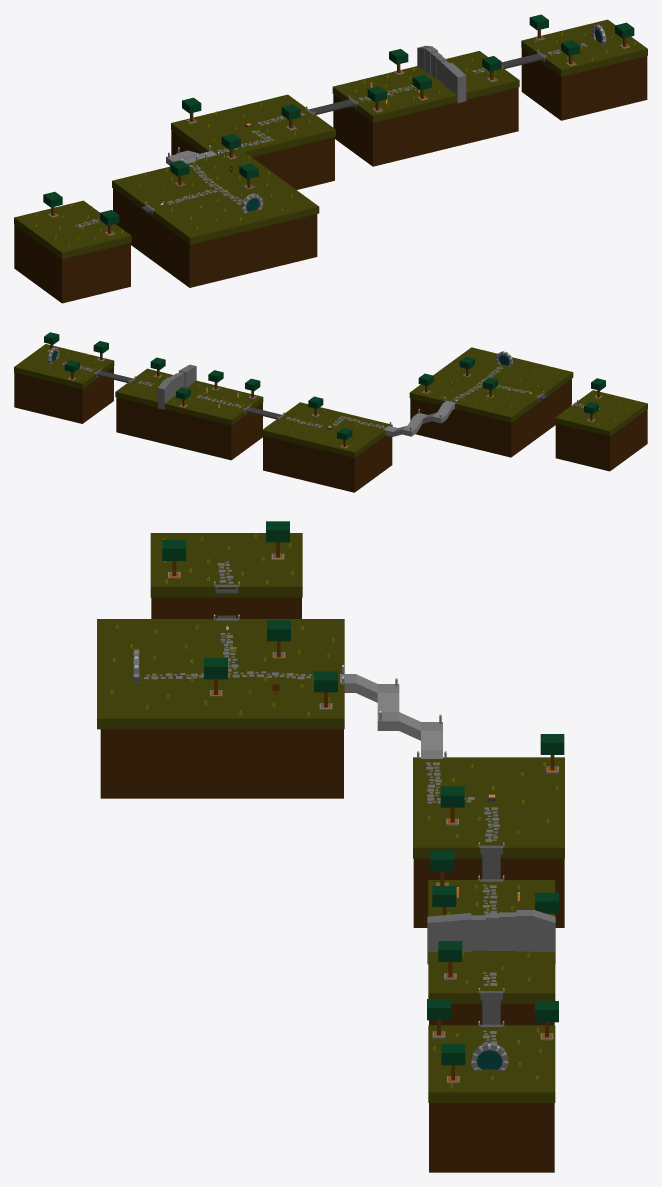
The model's file is Level14.fbx.
The picture shows the model from 3 angles, top to bottom: view 1: azimuth 30°, elevation 25°; view 2: azimuth 150°, elevation 25°; view 3: azimuth 270°, elevation 25°; orthographic projection. The views are drawn at different scales.
Visible parts, largest first — view 1: Cube90019001900190019002, Cube90029001900190019002, Cube9002900190019001900390019003, Cube90019001900190019003, Cube9002900190019001900390019002, Cube9001900190019001900390019003, Cube9002900190019001900390019001, Cube9001900190019001900390019001, Cube9001900190019001900390019004, Cube90029001900190019003, reci; view 2: Cube90019001900190019002, Cube9002900190019001900390019003, Cube90029001900190019002, Cube90029001900190019003, Cube90019001900190019003, Cube9001900190019001900390019003, Cube9002900190019001900390019002, Cube9002900190019001900390019001, Cube9001900190019001900390019001, Cube9001900190019001900390019004, reci; view 3: Cube90019001900190019002, Cube90029001900190019002, Cube90019001900190019003, Cube9001900190019001900390019003, Cube9002900190019001900390019002, Cube9001900190019001900390019001, Cube9001900190019001900390019004, Cube90029001900190019003, Cube9002900190019001900390019001, reci, ccccc, Cube9002900190019001900390019003.
Part boxes in pixels (x1=…): Cube90019001900190019002: x1=112, y1=149, x2=319, y2=244; Cube90029001900190019002: x1=113, y1=188, x2=317, y2=287; Cube9002900190019001900390019003: x1=333, y1=87, x2=518, y2=166; Cube90019001900190019003: x1=171, y1=94, x2=335, y2=156; Cube9002900190019001900390019002: x1=521, y1=48, x2=647, y2=120; Cube9001900190019001900390019003: x1=332, y1=51, x2=519, y2=122; Cube9002900190019001900390019001: x1=14, y1=225, x2=130, y2=303; Cube9001900190019001900390019001: x1=14, y1=200, x2=131, y2=259; Cube9001900190019001900390019004: x1=521, y1=19, x2=647, y2=76; Cube90029001900190019003: x1=171, y1=130, x2=334, y2=189; reci: x1=417, y1=45, x2=466, y2=103; Cube90019001900190019002: x1=409, y1=347, x2=573, y2=422; Cube9002900190019001900390019003: x1=116, y1=397, x2=262, y2=460; Cube90029001900190019002: x1=410, y1=379, x2=571, y2=457; Cube90029001900190019003: x1=263, y1=435, x2=392, y2=492; Cube90019001900190019003: x1=262, y1=402, x2=392, y2=457; Cube9001900190019001900390019003: x1=115, y1=368, x2=263, y2=425; Cube9002900190019001900390019002: x1=14, y1=366, x2=113, y2=423; Cube9002900190019001900390019001: x1=555, y1=409, x2=647, y2=471; Cube9001900190019001900390019001: x1=555, y1=390, x2=647, y2=436; Cube9001900190019001900390019004: x1=14, y1=344, x2=114, y2=388; reci: x1=158, y1=364, x2=196, y2=409; Cube90019001900190019002: x1=97, y1=619, x2=344, y2=729; Cube90029001900190019002: x1=100, y1=729, x2=343, y2=798; Cube90019001900190019003: x1=413, y1=757, x2=564, y2=858; Cube9001900190019001900390019003: x1=428, y1=880, x2=555, y2=1003; Cube9002900190019001900390019002: x1=429, y1=1103, x2=554, y2=1172; Cube9001900190019001900390019001: x1=150, y1=533, x2=302, y2=597; Cube9001900190019001900390019004: x1=428, y1=1025, x2=555, y2=1102; Cube90029001900190019003: x1=413, y1=858, x2=564, y2=927; Cube9002900190019001900390019001: x1=151, y1=597, x2=301, y2=618; reci: x1=427, y1=910, x2=555, y2=964; ccccc: x1=471, y1=912, x2=516, y2=950; Cube9002900190019001900390019003: x1=429, y1=1004, x2=554, y2=1025.
Size of what is drawn, in the model's own units: 45341 by 6149 by 17253.
